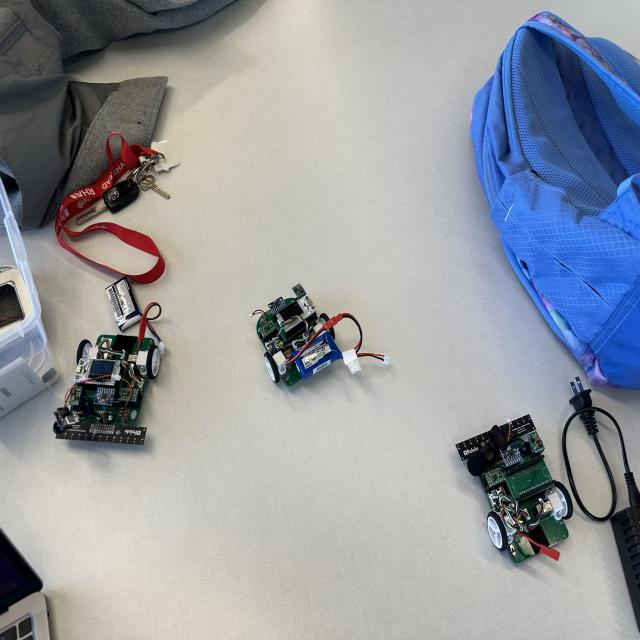robot: (455, 413, 573, 564), (52, 299, 165, 446), (249, 282, 389, 388)
